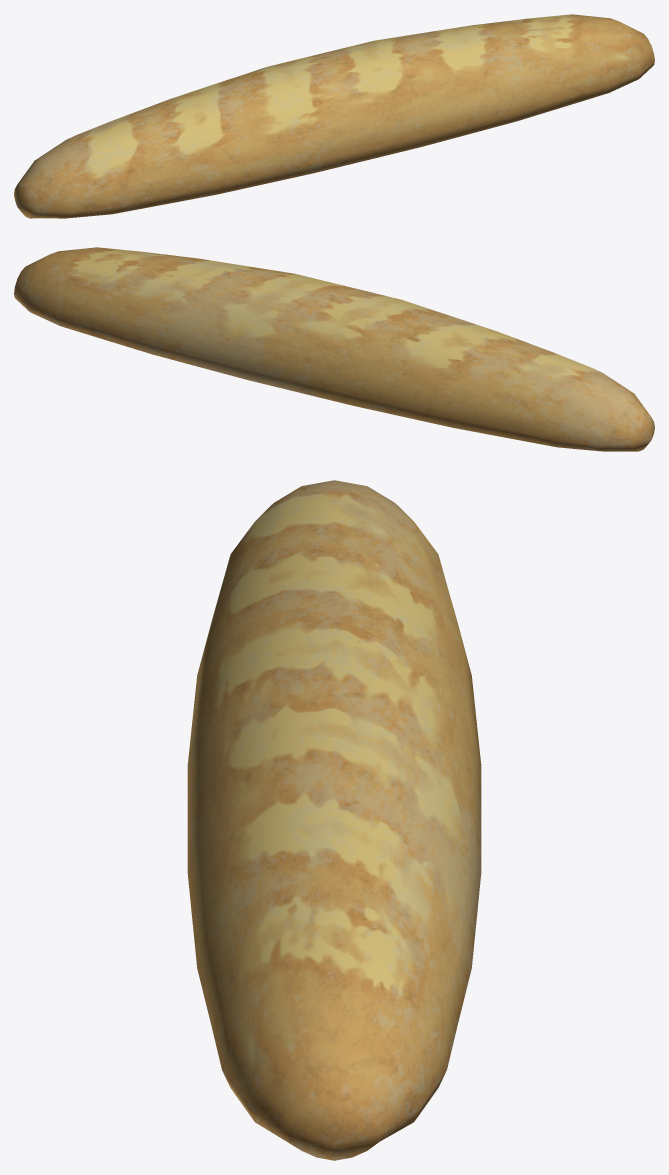
The model's file is baguette.fbx.
3 renders of one model, top to bottom at view 1: azimuth 30°, elevation 25°; view 2: azimuth 150°, elevation 25°; view 3: azimuth 270°, elevation 25°, orthographic. The views are drawn at different scales.
Parts seen in each view (by area): view 1: baguette; view 2: baguette; view 3: baguette.
Part boxes in pixels (bbox=[...]): baguette: bbox=[14, 14, 654, 218]; baguette: bbox=[14, 247, 654, 451]; baguette: bbox=[187, 480, 481, 1160].
Bounding box in the file's own units: 602 × 82.69 × 121.
Materials: 1 (1 with a texture image).
